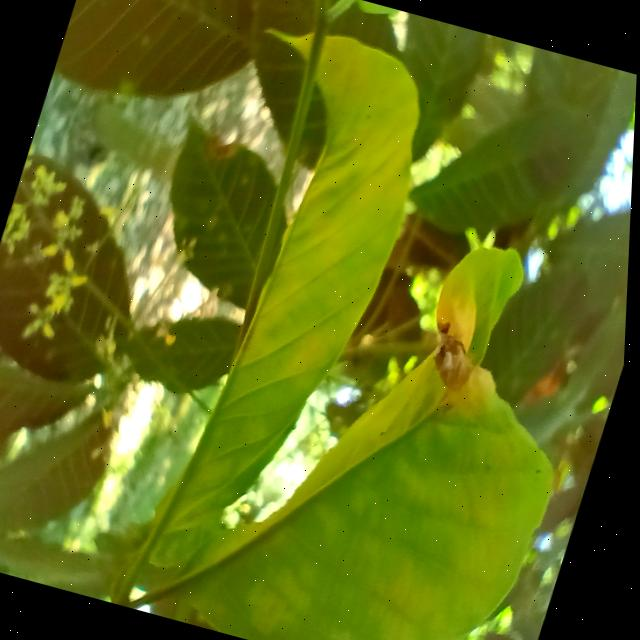Leaf-Blight: (420, 317, 492, 395)
